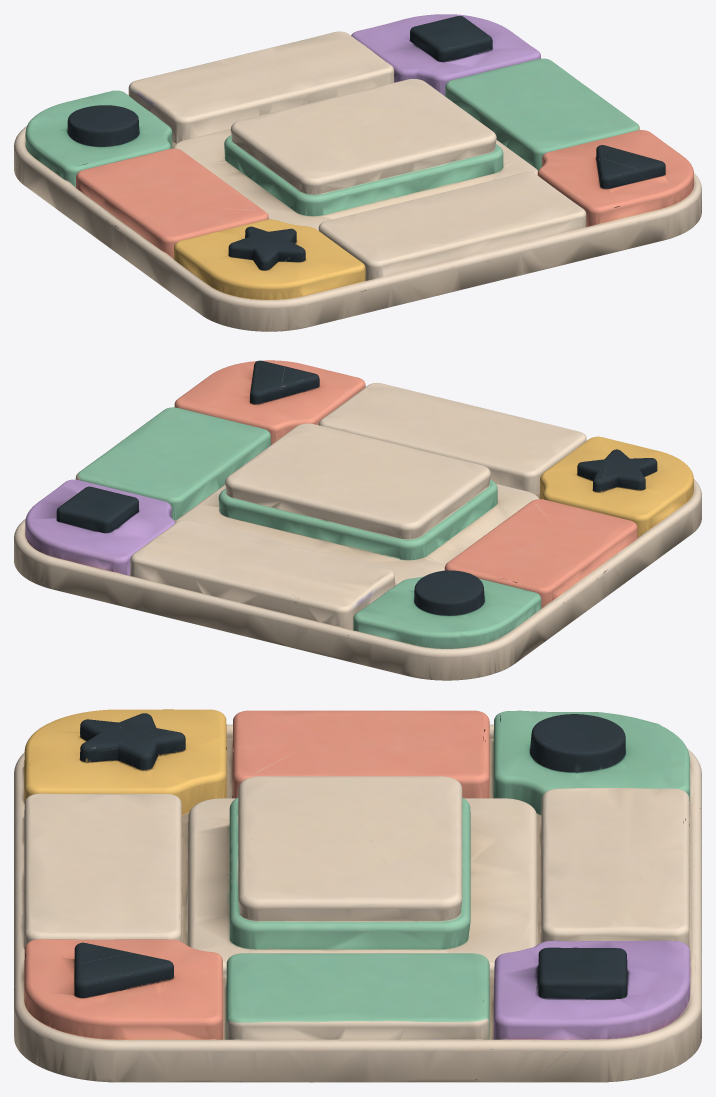
Rendered from v1Portfolio-draco-defaut.glb.
3 renders of one model, top to bottom at view 1: azimuth 30°, elevation 25°; view 2: azimuth 150°, elevation 25°; view 3: azimuth 270°, elevation 25°, orthographic. The views are drawn at different scales.
Parts seen in each view (by area): view 1: geometry_0; view 2: geometry_0; view 3: geometry_0.
Boxes of the visible parts, left/top/right/bottom form: geometry_0: left=14, top=14, right=701, bottom=331; geometry_0: left=14, top=360, right=701, bottom=680; geometry_0: left=14, top=709, right=701, bottom=1082.
Size of the model in its own units: 1.9 by 0.236 by 1.72.
1 material, 1 textured.
